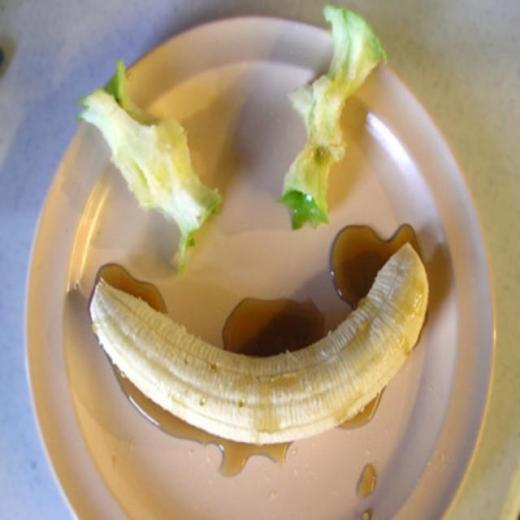Banana: (84, 244, 430, 446)
